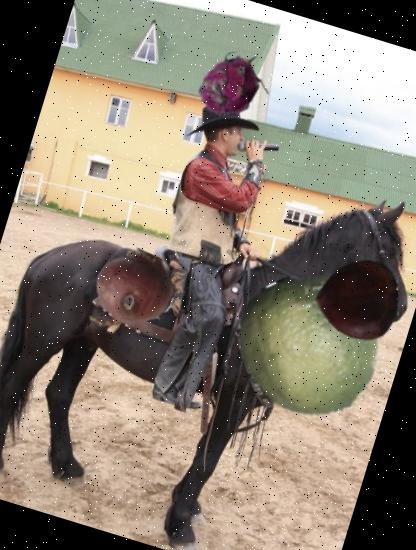Chestnut: (304, 248, 408, 353)
Limes: (221, 255, 402, 436)
Onion: (80, 239, 188, 348)
Pitahaya: (186, 39, 276, 130)
